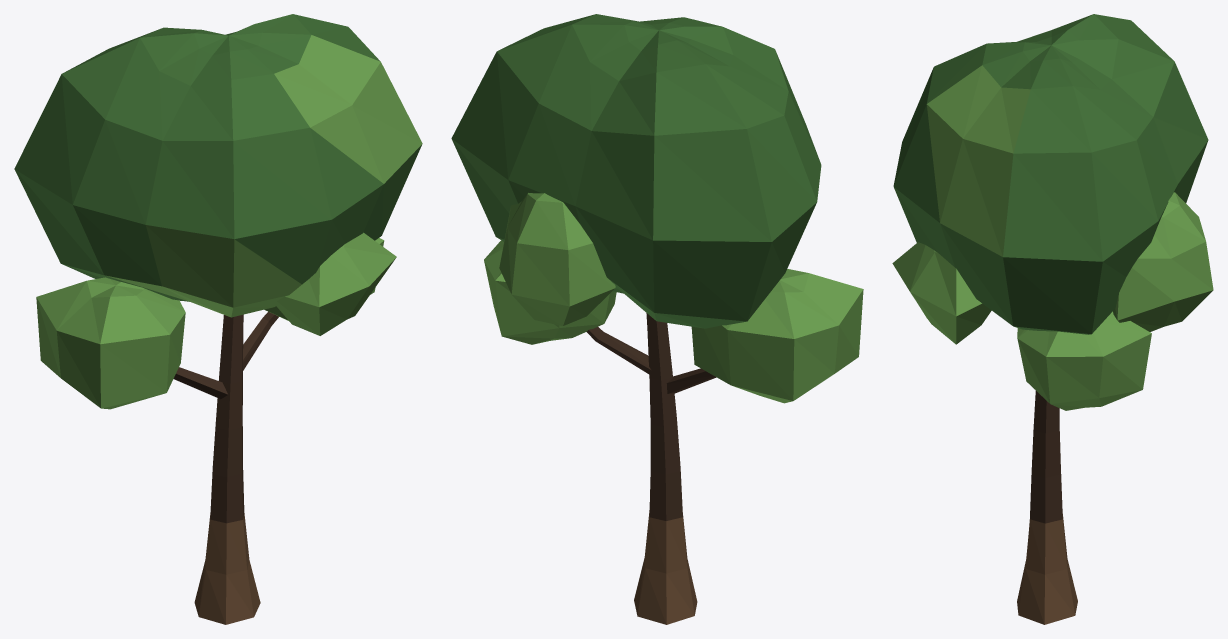
Rendered from broadleaf-oak-997c22.glb.
3 renders of one model, left to right at view 1: azimuth 30°, elevation 25°; view 2: azimuth 150°, elevation 25°; view 3: azimuth 270°, elevation 25°, orthographic. The views are drawn at different scales.
Visible parts, largest first — view 1: broadleaf-oak-mesh; view 2: broadleaf-oak-mesh; view 3: broadleaf-oak-mesh.
Part boxes in pixels (x1,y1,x2,y2): broadleaf-oak-mesh: [14, 14, 422, 624]; broadleaf-oak-mesh: [451, 14, 863, 624]; broadleaf-oak-mesh: [892, 14, 1213, 624].
Bounding box in the file's own units: 4.5 × 6.98 × 3.57.
